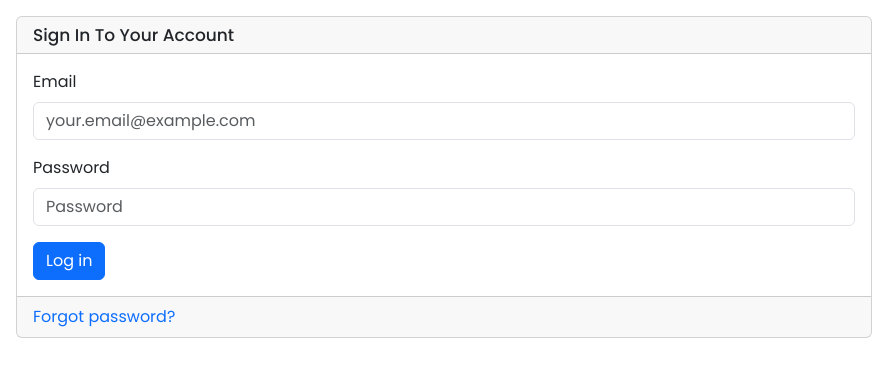
Test: LoginUser › 🎭 Interactions — Zod validation (onTouched) › shows error when password is empty after blur
Click the password field labelled "Password" at [444, 207], box [33, 188, 855, 226]
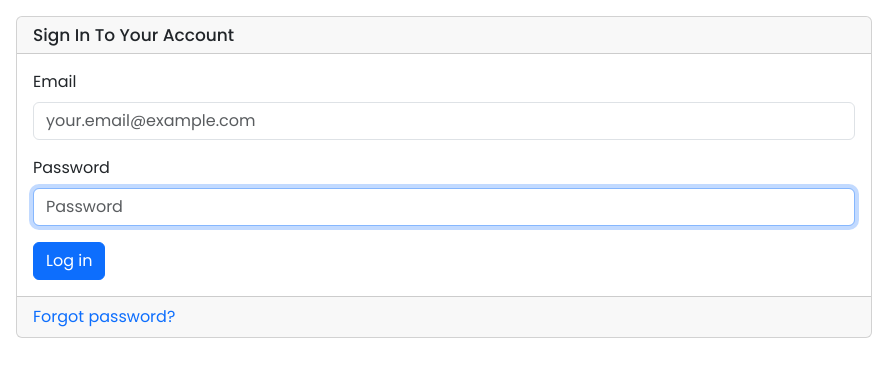
Press Tab
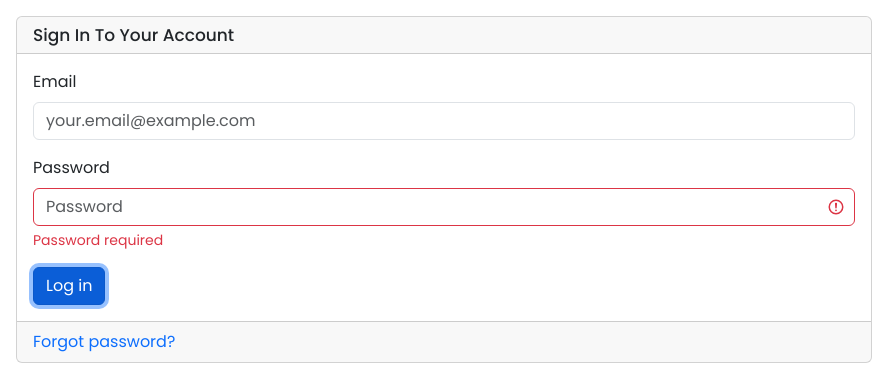
Expected: the text "Password required" is shown, [33, 230, 163, 250]
